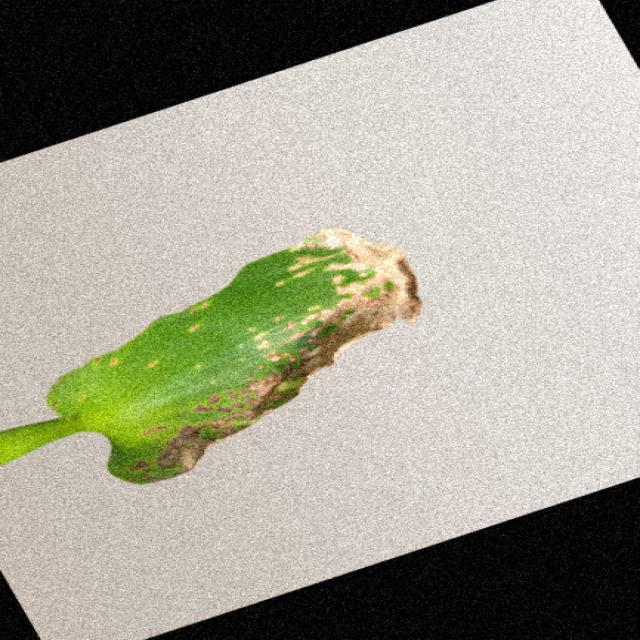daun berpenyakit bercak: (2, 228, 421, 483)
